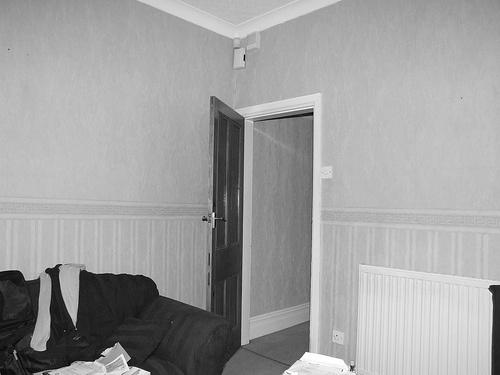sofa: (1, 262, 228, 375)
